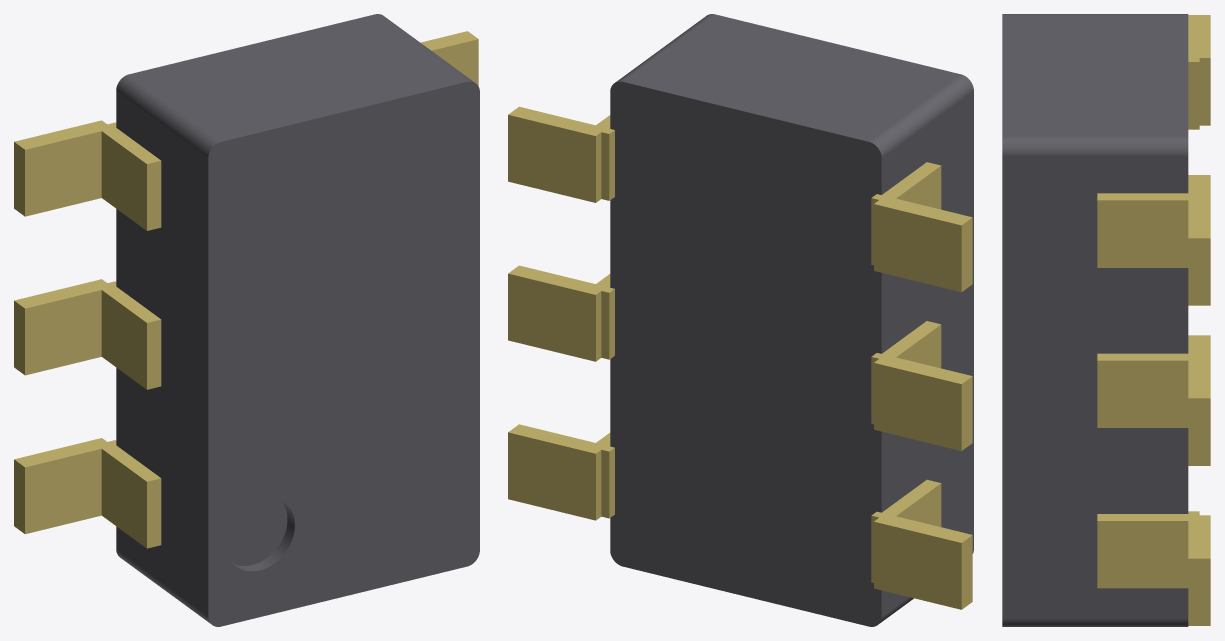
File: ttp223.glb
The picture shows the model from 3 angles, left to right: view 1: azimuth 30°, elevation 25°; view 2: azimuth 150°, elevation 25°; view 3: azimuth 270°, elevation 25°; orthographic projection.
Parts seen in each view (by area): view 1: extra, pins; view 2: extra, pins; view 3: extra, pins.
Boxes of the visible parts, x1,y1,x2,y2 form: extra: [116, 14, 479, 626]; pins: [14, 31, 478, 548]; extra: [610, 14, 973, 626]; pins: [508, 106, 972, 609]; extra: [1002, 14, 1188, 626]; pins: [1097, 15, 1210, 625].
Bounding box in the file's own units: 2.84 × 2.9 × 1.12.
